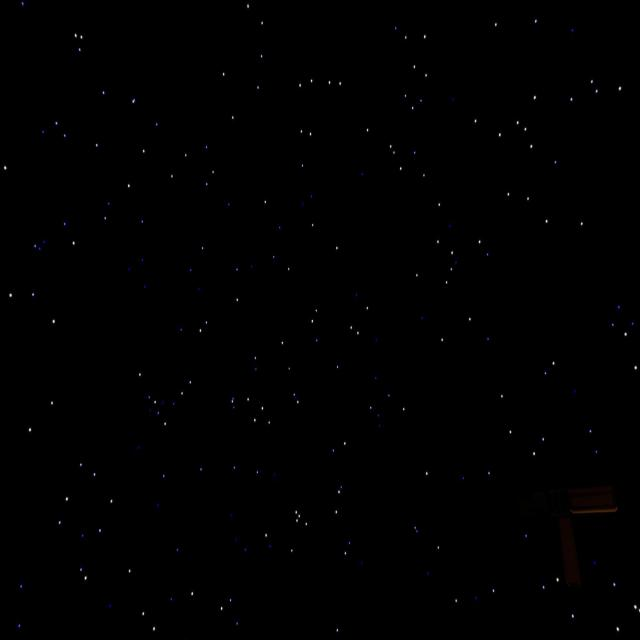medium_debris: (556, 480, 634, 589)
